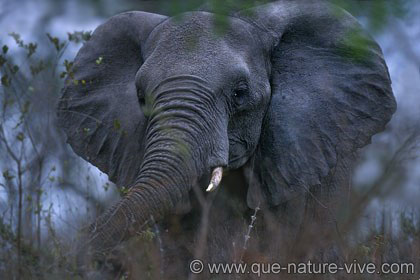elephant: (47, 1, 403, 261)
